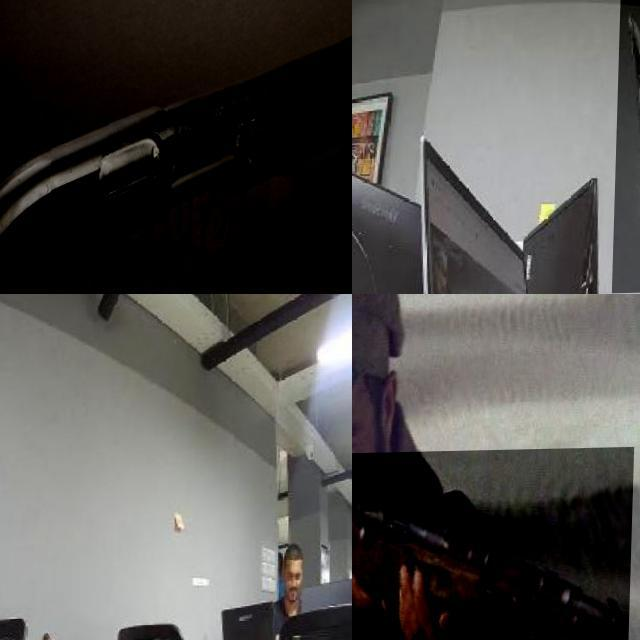-: (614, 0, 640, 294)
gun-knife-thesis - v11 Yolov5 augmented: (0, 0, 352, 294), (352, 449, 636, 640)
